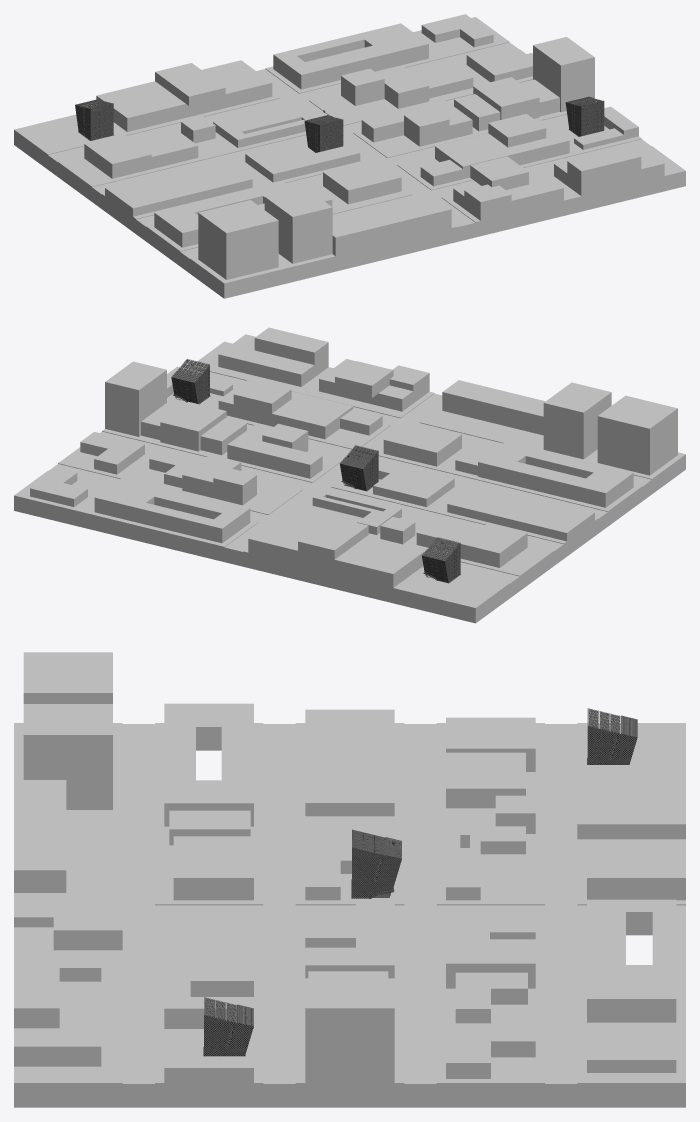
File: linq_low_poly_web_app_test.glb
3 renders of one model, top to bottom at view 1: azimuth 30°, elevation 25°; view 2: azimuth 150°, elevation 25°; view 3: azimuth 270°, elevation 25°, orthographic. The views are drawn at different scales.
Visible parts, largest first — view 1: Buildings, Ground, DISTRICT_complex_2.001, DISTRICT_complex_2, LINQ; view 2: Buildings, Ground, DISTRICT_complex_2.001, DISTRICT_complex_2, LINQ; view 3: Buildings, Ground, DISTRICT_complex_2, DISTRICT_complex_2.001, LINQ, MYLINQ_roof_solar_panels, MYLINQ.
Part boxes in pixels (x1=…): Buildings: x1=84, y1=14, x2=664, y2=279; Ground: x1=14, y1=17, x2=685, y2=298; DISTRICT_complex_2.001: x1=75, y1=99, x2=113, y2=140; DISTRICT_complex_2: x1=565, y1=96, x2=604, y2=136; LINQ: x1=305, y1=125, x2=343, y2=152; Buildings: x1=30, y1=327, x2=677, y2=587; Ground: x1=14, y1=341, x2=685, y2=623; DISTRICT_complex_2.001: x1=422, y1=537, x2=460, y2=583; DISTRICT_complex_2: x1=171, y1=359, x2=210, y2=404; LINQ: x1=340, y1=461, x2=378, y2=491; Buildings: x1=14, y1=652, x2=685, y2=1082; Ground: x1=14, y1=723, x2=685, y2=1107; DISTRICT_complex_2: x1=203, y1=997, x2=253, y2=1056; DISTRICT_complex_2.001: x1=587, y1=708, x2=637, y2=764; LINQ: x1=351, y1=864, x2=399, y2=898; MYLINQ_roof_solar_panels: x1=352, y1=830, x2=401, y2=858; MYLINQ: x1=352, y1=829, x2=401, y2=864.
Size of the model in its own units: 774 by 99.6 by 611.
7 materials, 6 textured.
